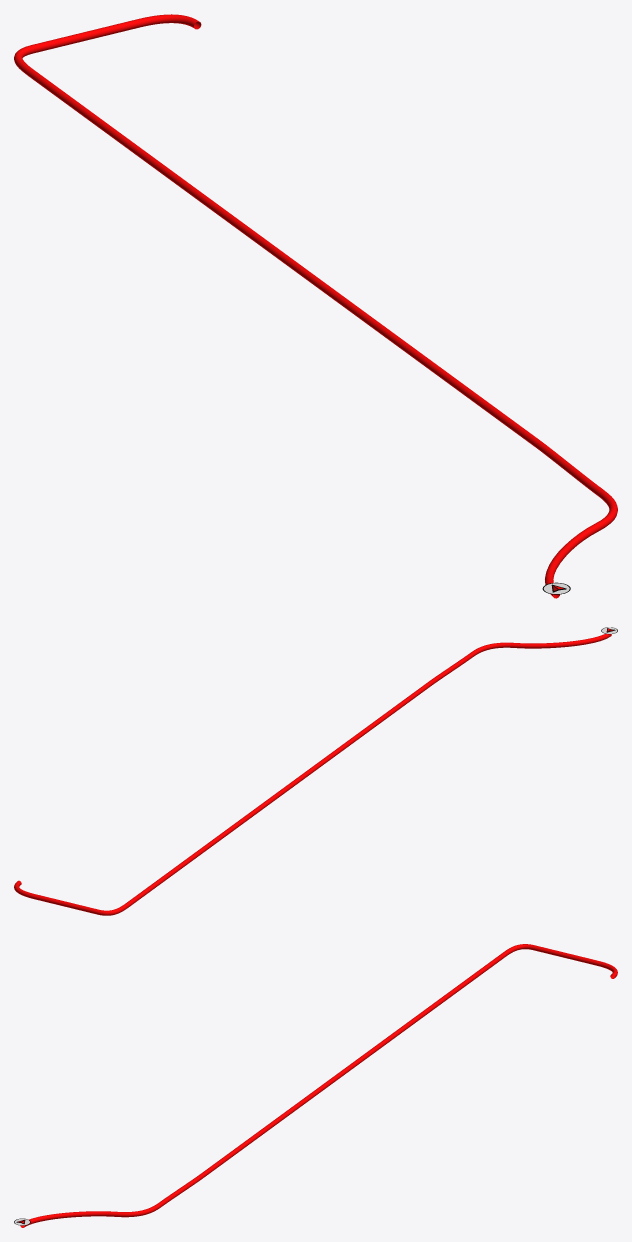
Rendered from route_48cef140-aacc-4375-b810-fb90a9d52506_de_single.glb.
3 views of the same model, one above another, from view 1: azimuth 30°, elevation 25°; view 2: azimuth 150°, elevation 25°; view 3: azimuth 330°, elevation 25° (orthographic). The views are drawn at different scales.
Parts seen in each view (by area): view 1: B8, Abteil 3; view 2: B8, Abteil 3; view 3: B8, Abteil 3.
Part boxes in pixels (x1,y1,x2,y2): B8, Abteil 3: (14,14,617,598); B8, Abteil 3: (14,633,611,915); B8, Abteil 3: (20,944,617,1227).
Bounding box in the file's own units: 3.52 × 0.1062 × 12.91.
